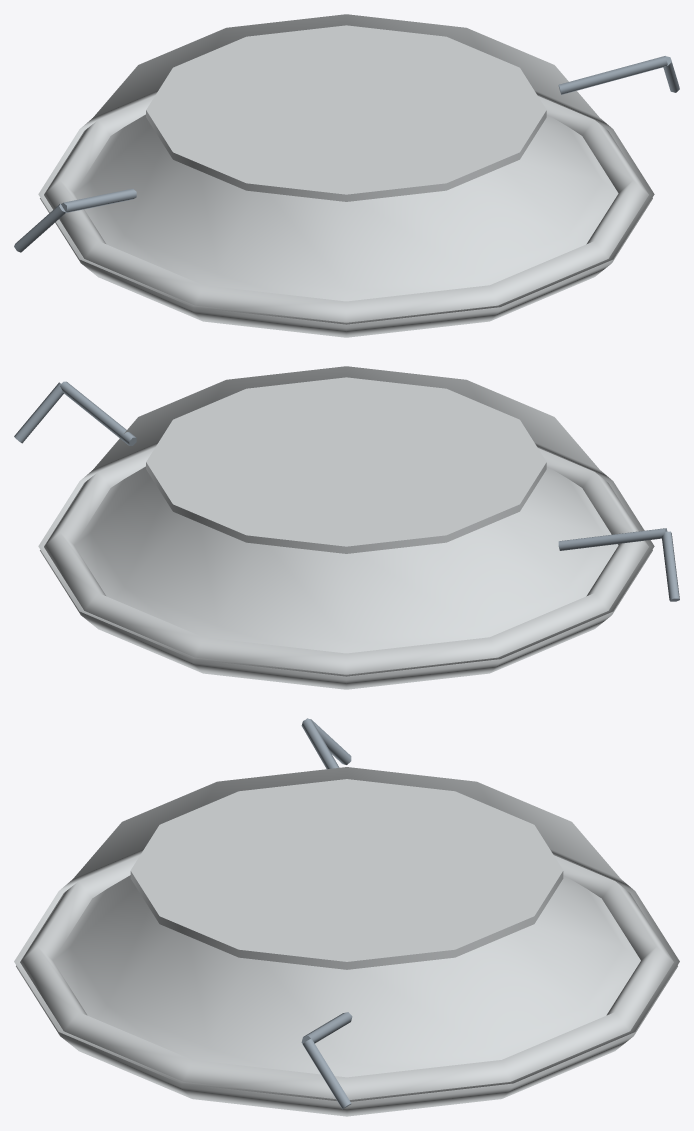
The model's file is source.glb.
3 views of the same model, one above another, from view 1: azimuth 30°, elevation 25°; view 2: azimuth 150°, elevation 25°; view 3: azimuth 270°, elevation 25° (orthographic). The views are drawn at different scales.
Visible parts, largest first — view 1: 粉末涂层铝壳, 机加工金属; view 2: 粉末涂层铝壳, 机加工金属; view 3: 粉末涂层铝壳, 机加工金属.
Part boxes in pixels (x1,y1,x2,y2): 粉末涂层铝壳: (38,14,654,337); 机加工金属: (14,56,679,252); 粉末涂层铝壳: (38,366,654,689); 机加工金属: (14,381,679,601); 粉末涂层铝壳: (14,767,679,1116); 机加工金属: (301,718,352,1109).
Bounding box in the file's own units: 0.1494 × 0.0229 × 0.12.
